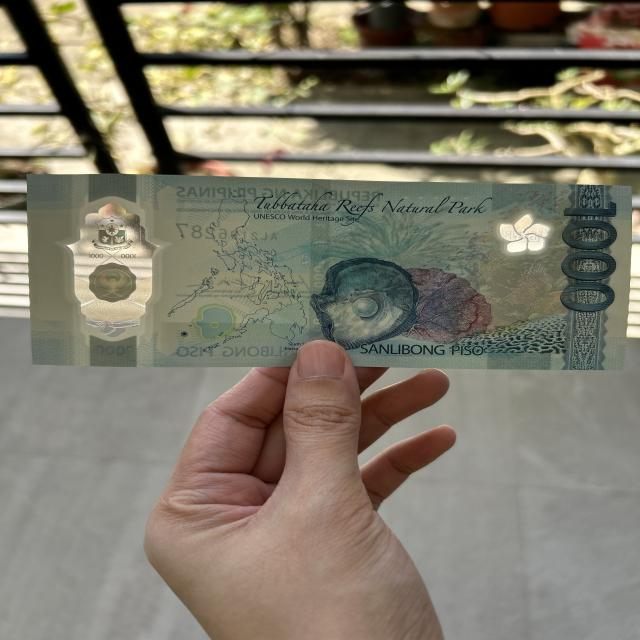clear_window: (64, 198, 156, 336)
sampaguita: (499, 212, 551, 253)
value: (554, 200, 622, 314)
